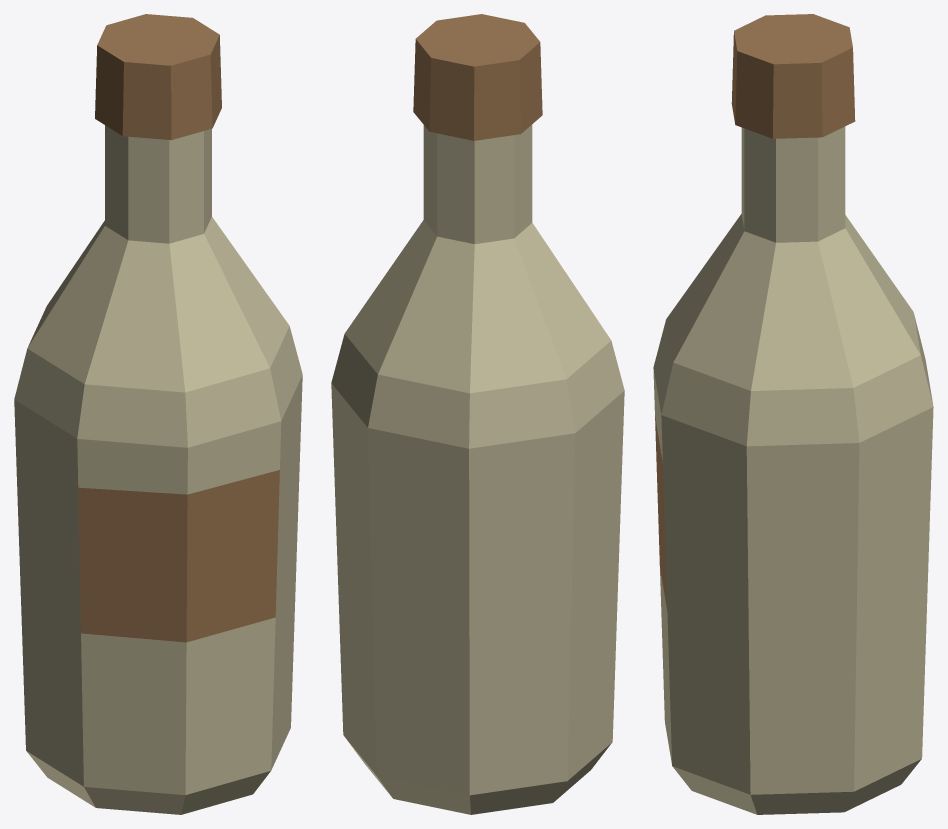
Rendered from urp 7.fbx.
3 views of the same model, side by side, from view 1: azimuth 30°, elevation 25°; view 2: azimuth 150°, elevation 25°; view 3: azimuth 270°, elevation 25° (orthographic).
Parts seen in each view (by area): view 1: urp 7; view 2: urp 7; view 3: urp 7.
Boxes of the visible parts, box(x1,y1,x2,y2) form: urp 7: box(14, 14, 302, 814); urp 7: box(331, 14, 624, 814); urp 7: box(653, 14, 933, 814).
Size of the model in its own units: 26.36 by 75.83 by 26.36.
